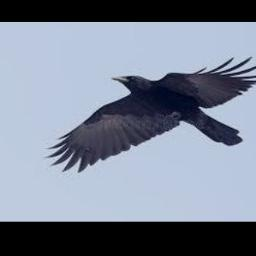Crow: (48, 56, 256, 171)
